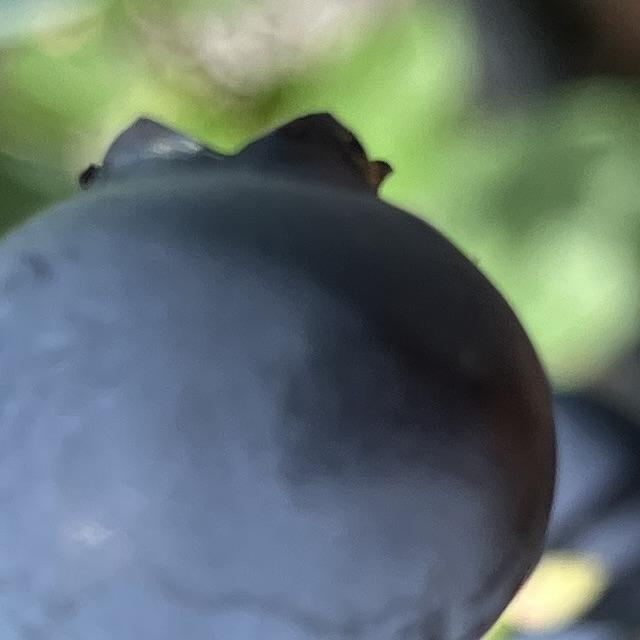Blueberries: (0, 102, 561, 640)
